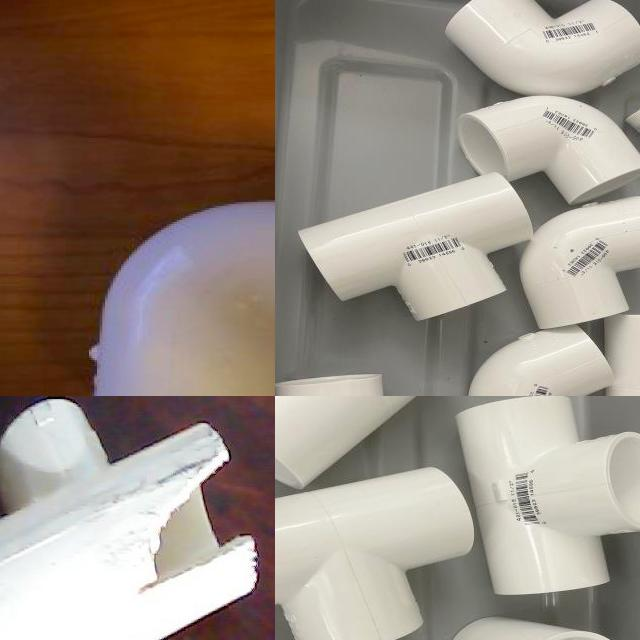Defective: (107, 449, 259, 605)
L Joint: (90, 201, 275, 396), (458, 96, 640, 206), (445, 0, 640, 98), (519, 203, 640, 330), (469, 328, 617, 396)
T Joint: (0, 401, 260, 640), (456, 396, 640, 599), (300, 172, 534, 323), (275, 468, 475, 640), (275, 396, 423, 493)
